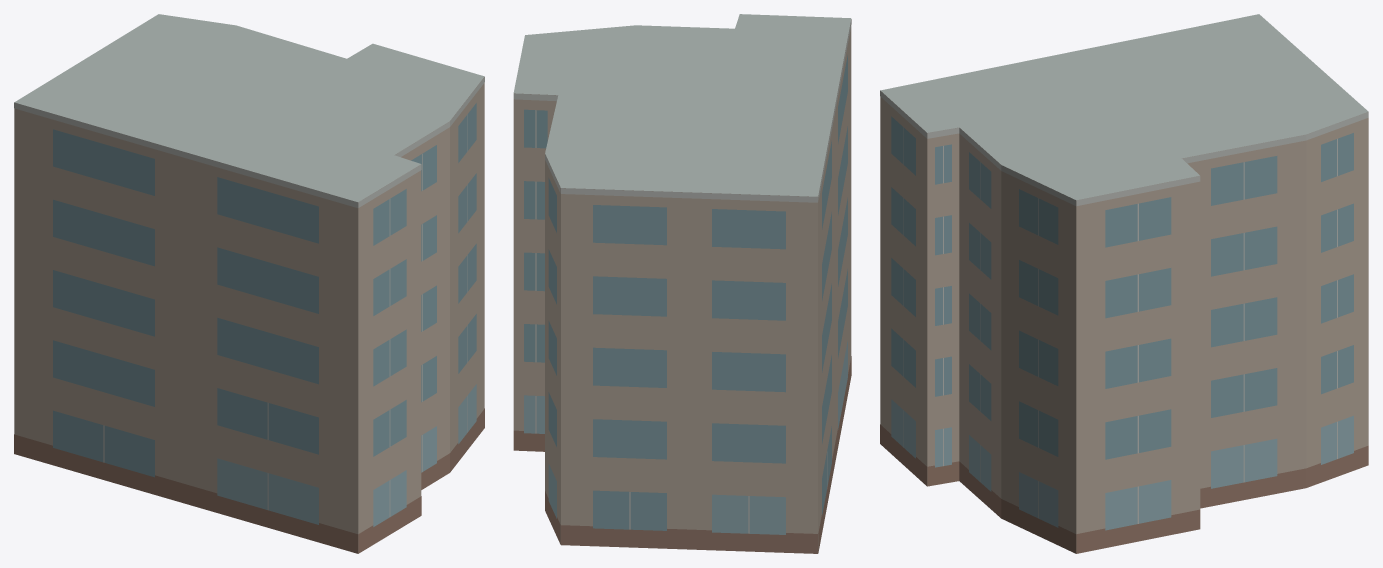
The model's file is survey-upis-32710091.glb.
3 views of the same model, side by side, from view 1: azimuth 30°, elevation 25°; view 2: azimuth 150°, elevation 25°; view 3: azimuth 270°, elevation 25° (orthographic).
Visible parts, largest first — view 1: survey-upis-32710091.tmp; view 2: survey-upis-32710091.tmp; view 3: survey-upis-32710091.tmp.
Part boxes in pixels (left/top/right/bottom): survey-upis-32710091.tmp: left=14, top=14, right=484, bottom=553; survey-upis-32710091.tmp: left=513, top=14, right=851, bottom=553; survey-upis-32710091.tmp: left=880, top=14, right=1368, bottom=553.
Bounding box in the file's own units: 16.28 × 14.4 × 18.04.
